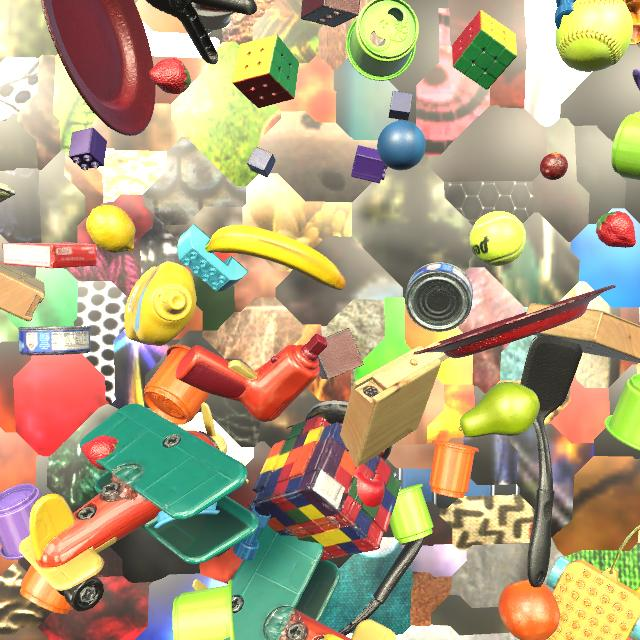ycb_006_mustard_bottle: (124, 262, 196, 346)
ycb_007_tuna_fish_can: (405, 262, 473, 332), (18, 326, 91, 355)
ycb_009_gelatin_box: (2, 242, 97, 268)
ycb_011_banana: (205, 225, 346, 290)
ycb_012_strawberry: (149, 58, 191, 94), (596, 211, 636, 248), (81, 435, 119, 470)
ycb_013_apple: (355, 472, 385, 507)
ycb_014_lemon: (86, 205, 135, 253)
ycb_016_pear: (459, 382, 540, 438)
ycb_017_orange: (498, 580, 560, 640)
